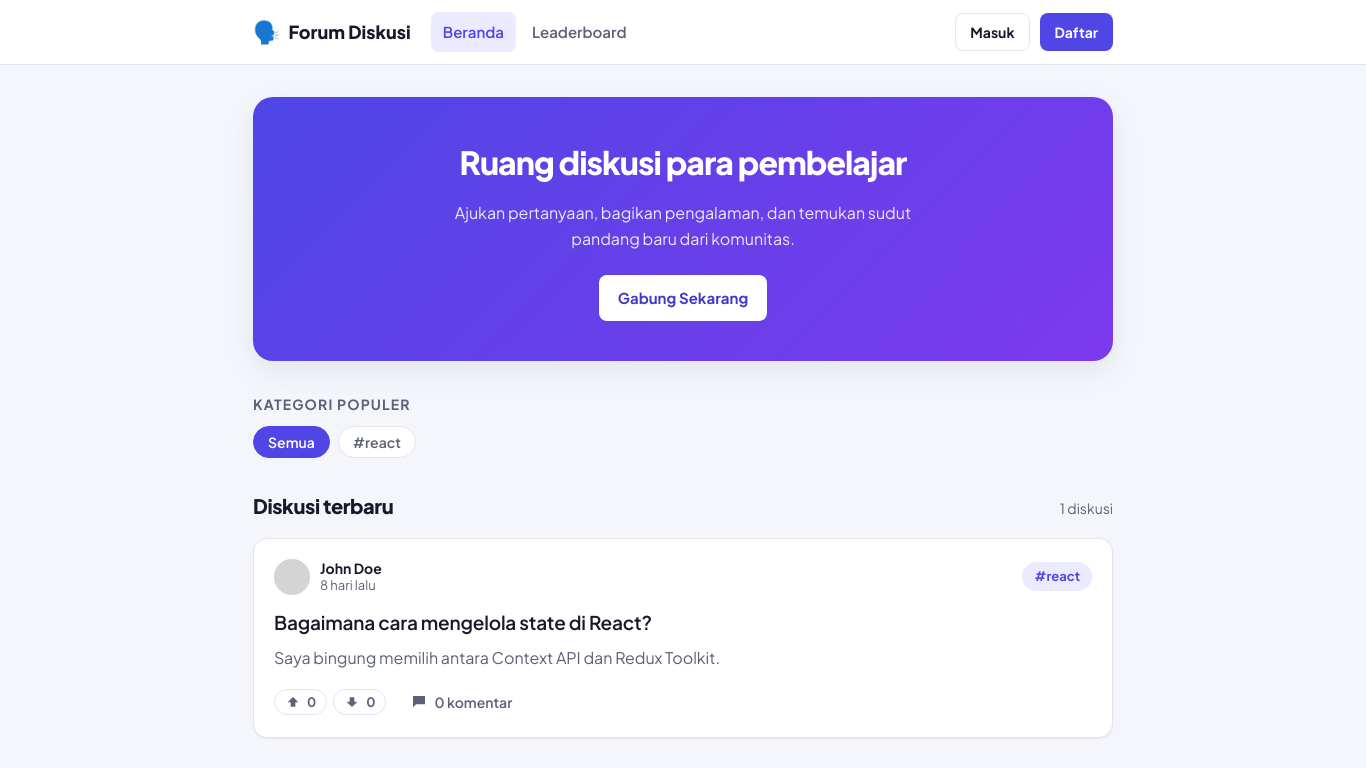
it: Beranda & Filter Kategori › harus menampilkan filter kategori sesuai kategori thread yang tersedia
Check: the button "Semua" is shown, box [253,426,330,458]
Click the button "#react". click: (377, 442)
box: [338,426,416,458]
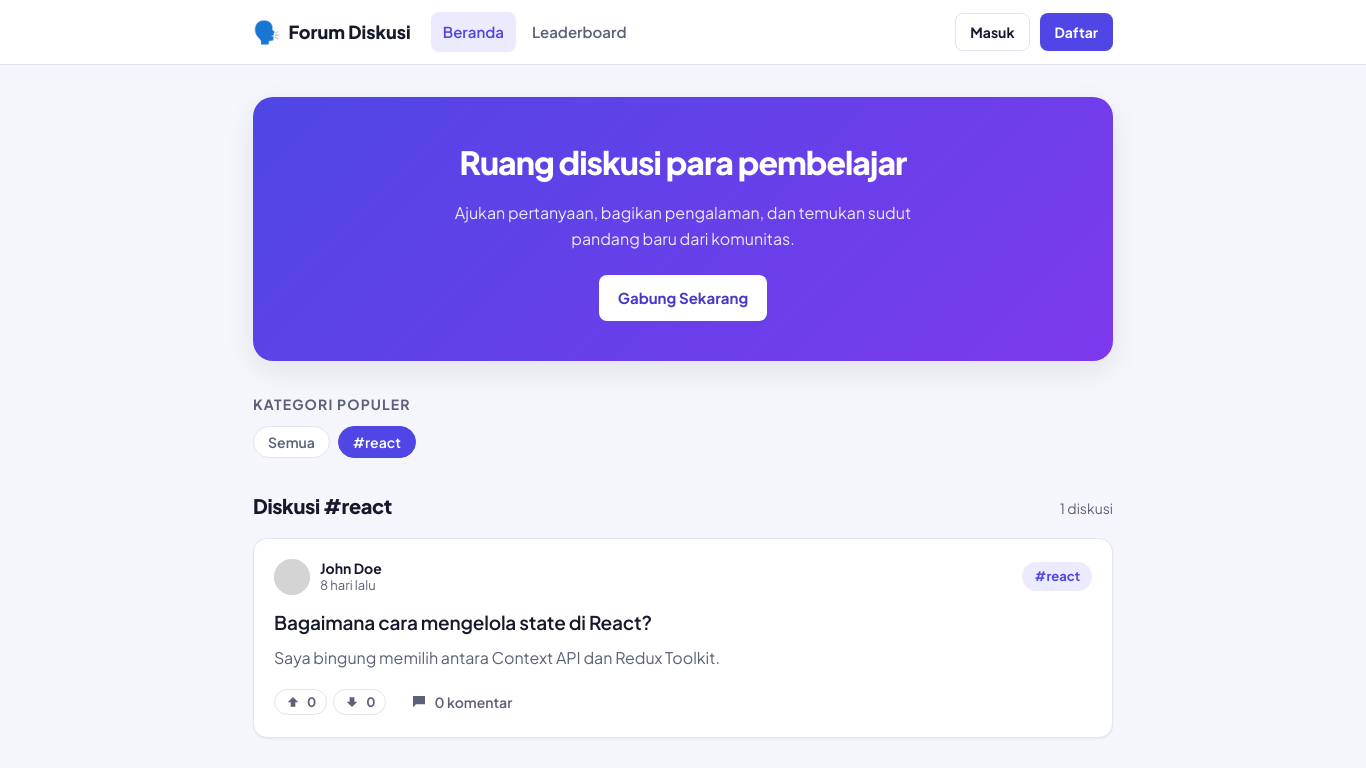
Check: the heading "Diskusi #react" is shown, box [253,490,392,522]
